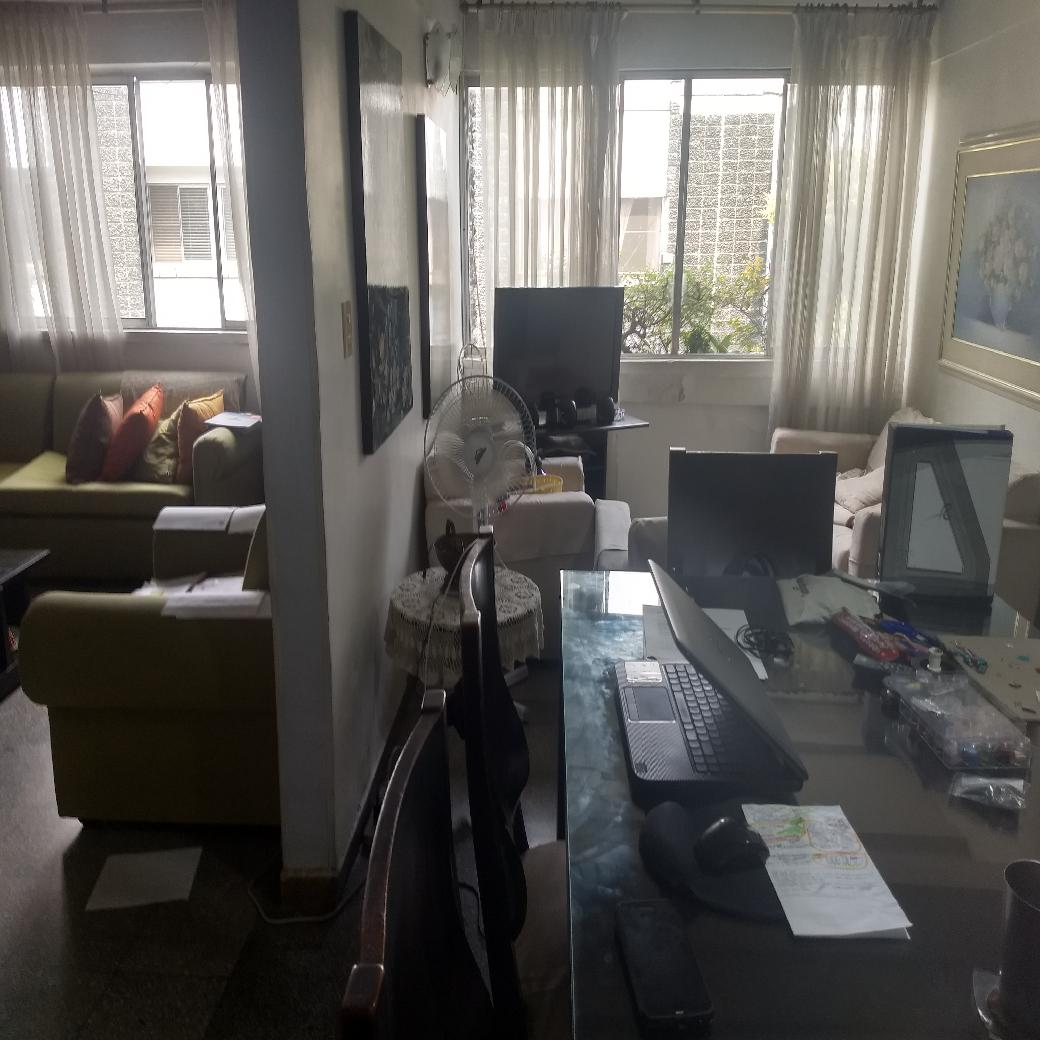laptop: (605, 561, 810, 797)
tv: (493, 289, 624, 397)
ventilador: (420, 373, 532, 515)
